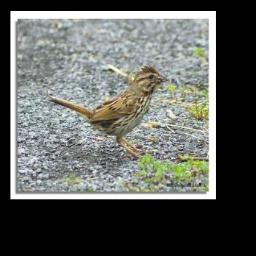Sparrow: (47, 63, 173, 160)
